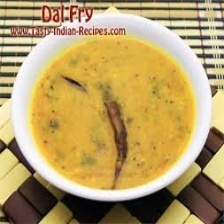dal: (28, 36, 195, 191)
